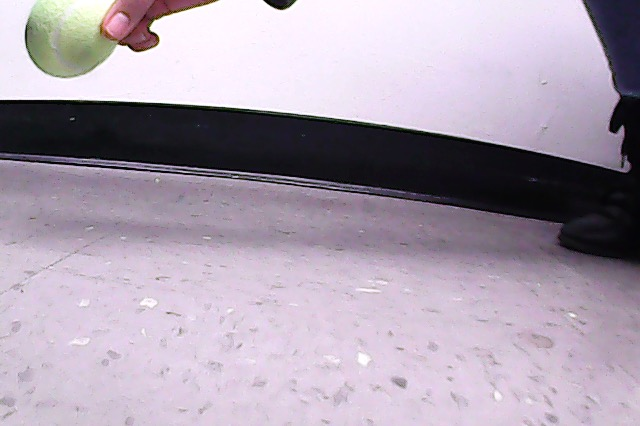ball: (26, 1, 120, 79)
